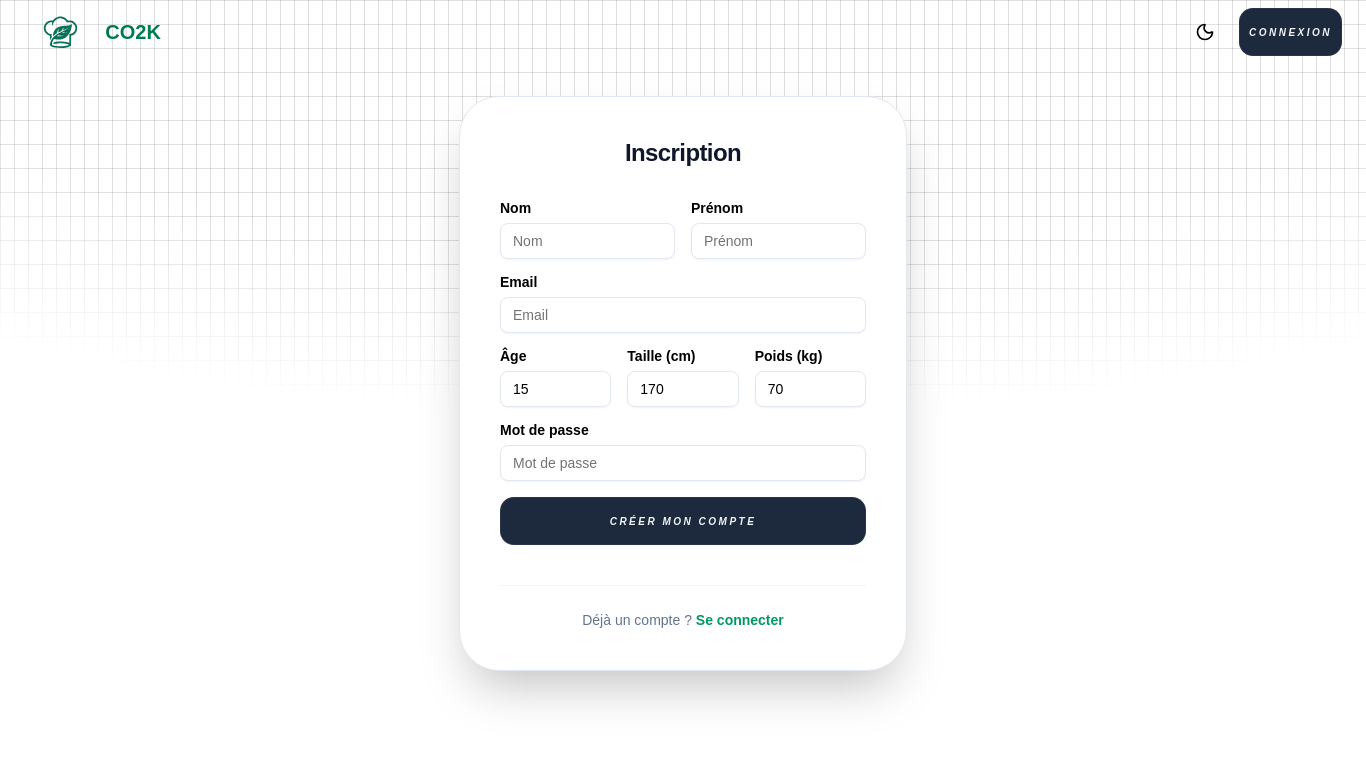
Test case: Test Inscription › Formulaire vide
Click the submit button at point(683, 521), box left=500, top=497, right=866, bottom=545
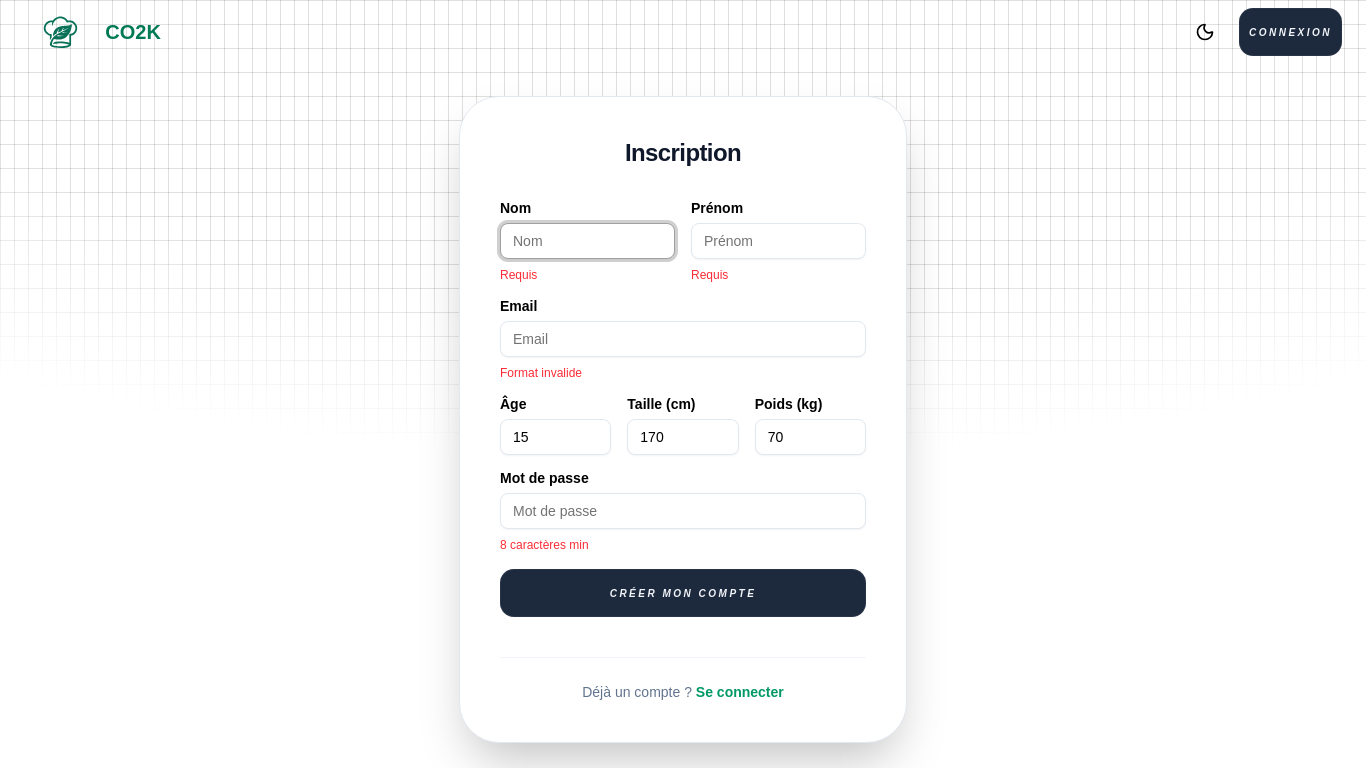
Expected: the 1st text "Requis" is shown, left=500, top=268, right=537, bottom=282
